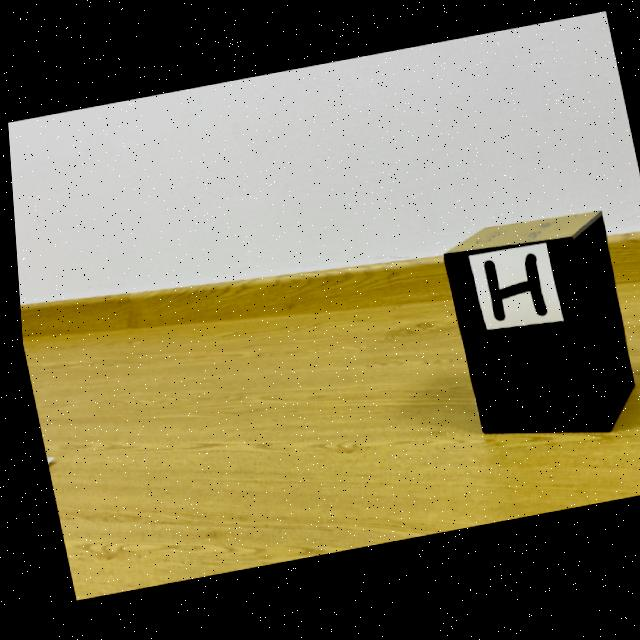H: (480, 259, 543, 326)
